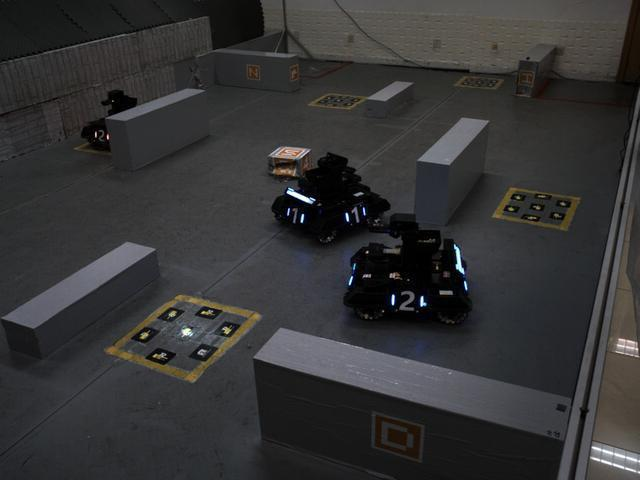armor: (385, 287, 426, 315), (280, 200, 308, 230), (341, 203, 367, 226), (89, 125, 112, 146)
